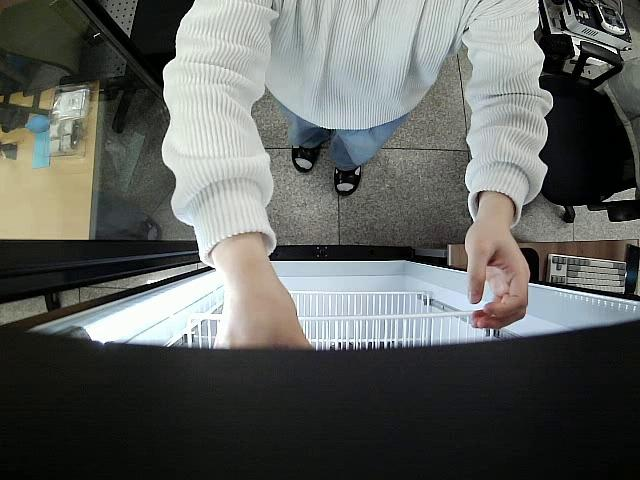00_hand: (465, 224, 531, 325)
